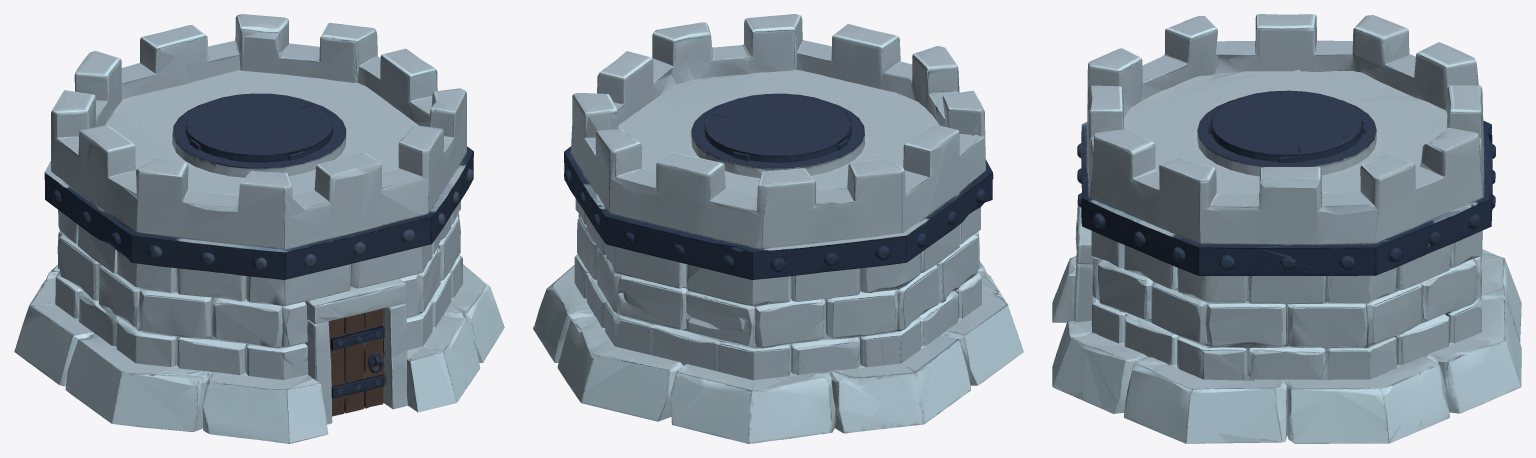
Rendered from body.glb.
3 views of the same model, side by side, from view 1: azimuth 30°, elevation 25°; view 2: azimuth 150°, elevation 25°; view 3: azimuth 270°, elevation 25° (orthographic). The views are drawn at different scales.
Size of the model in its own units: 1.9 by 1.11 by 1.9.
Materials: 1 (1 with a texture image).
